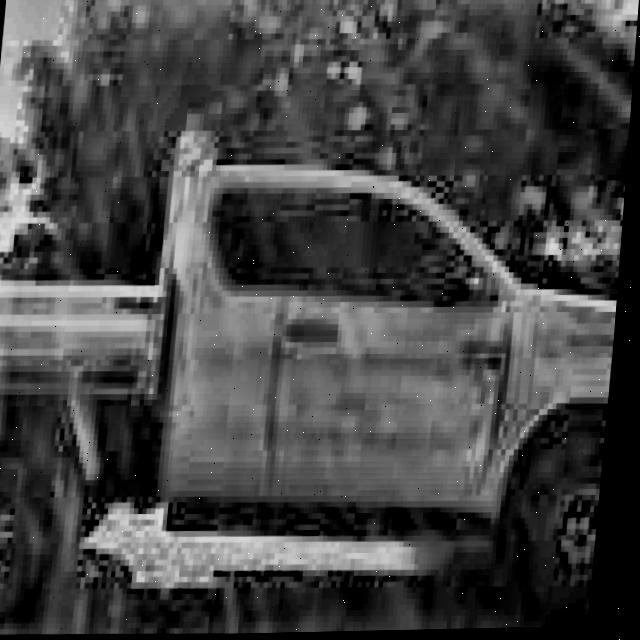light_vehicle: (0, 132, 632, 640)
